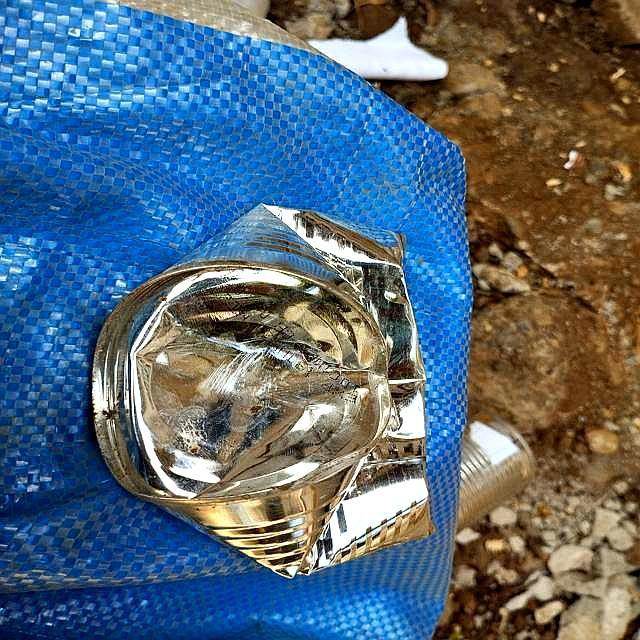Non-biodegradable: (85, 201, 439, 577)
